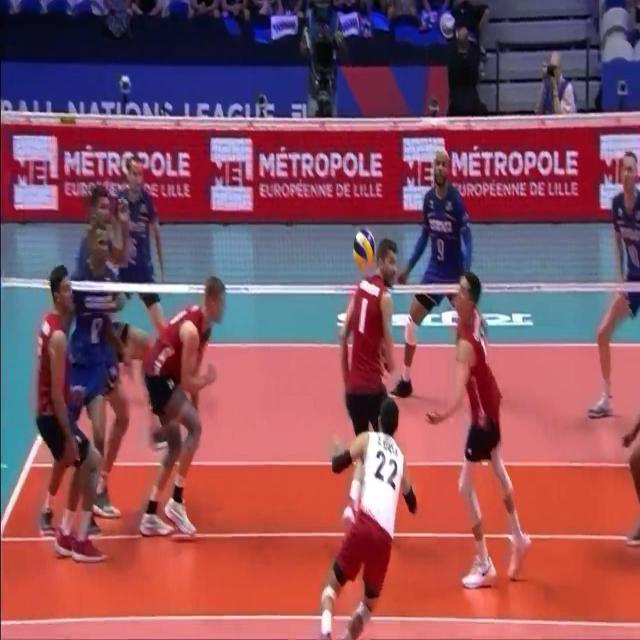volleyball: (353, 228, 376, 270)
